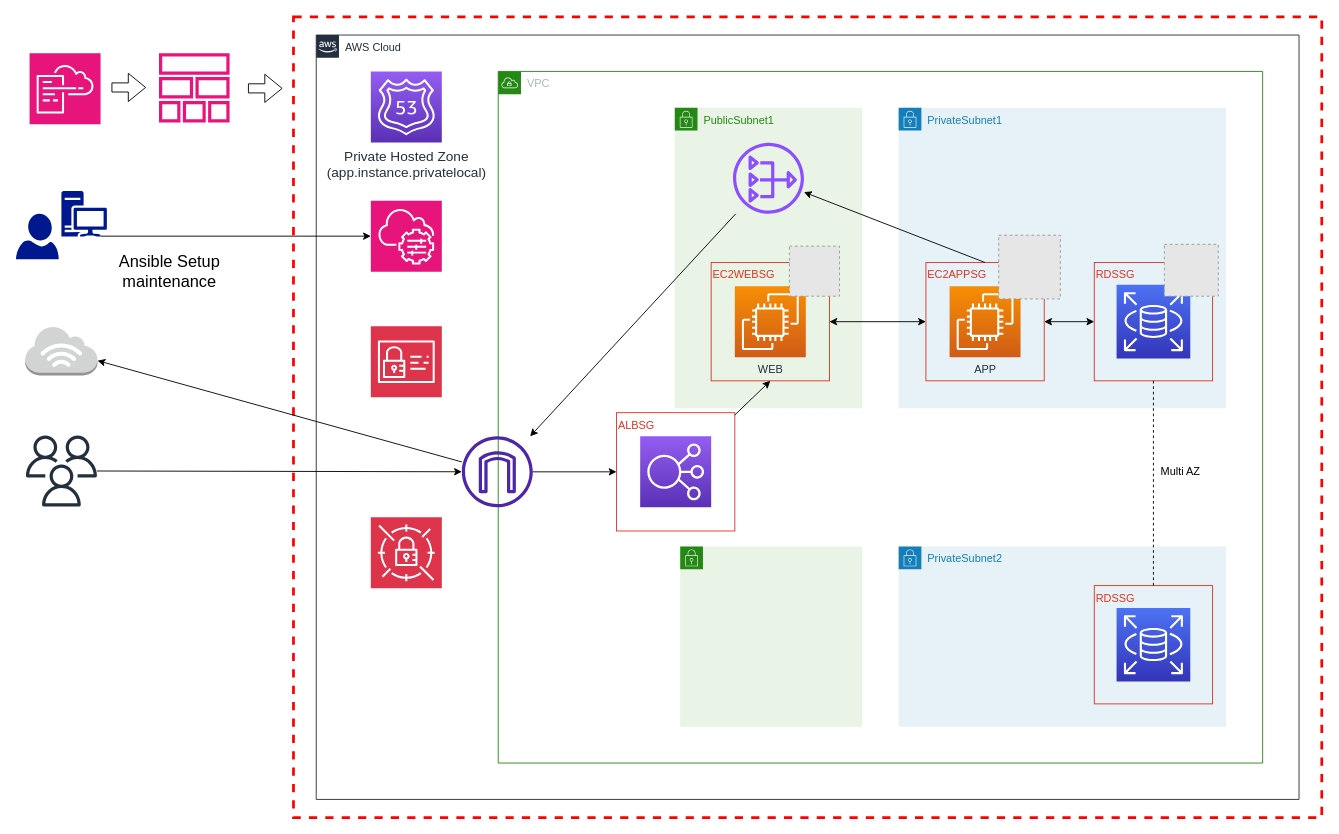
Some shapes in this 1339 by 834 pixel diagram are drawn without their labels. Grey dashed boxes stand in for pictures. Each missing label, with the centre of its shape:
"CloudFormation" belongs at point (65, 88).
"IAM Attach to EC2" belongs at point (406, 361).
"PublicSubnet2" belongs at point (770, 636).
"Sercret Manager RDS Password" belongs at point (406, 552).
"SSH OVER SSM to EC2Instance" belongs at point (406, 236).
"Stack" belongs at point (193, 87).
